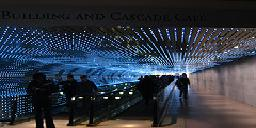LED: (1, 25, 245, 78)
